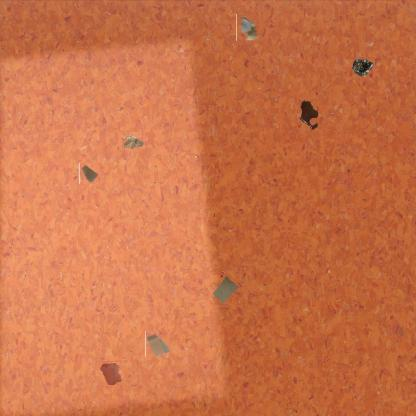dirty: (210, 275, 240, 305), (145, 331, 170, 357), (236, 13, 259, 41), (350, 57, 376, 78), (79, 162, 100, 184), (121, 132, 145, 150)
liquid: (297, 98, 319, 130), (98, 361, 122, 385)
